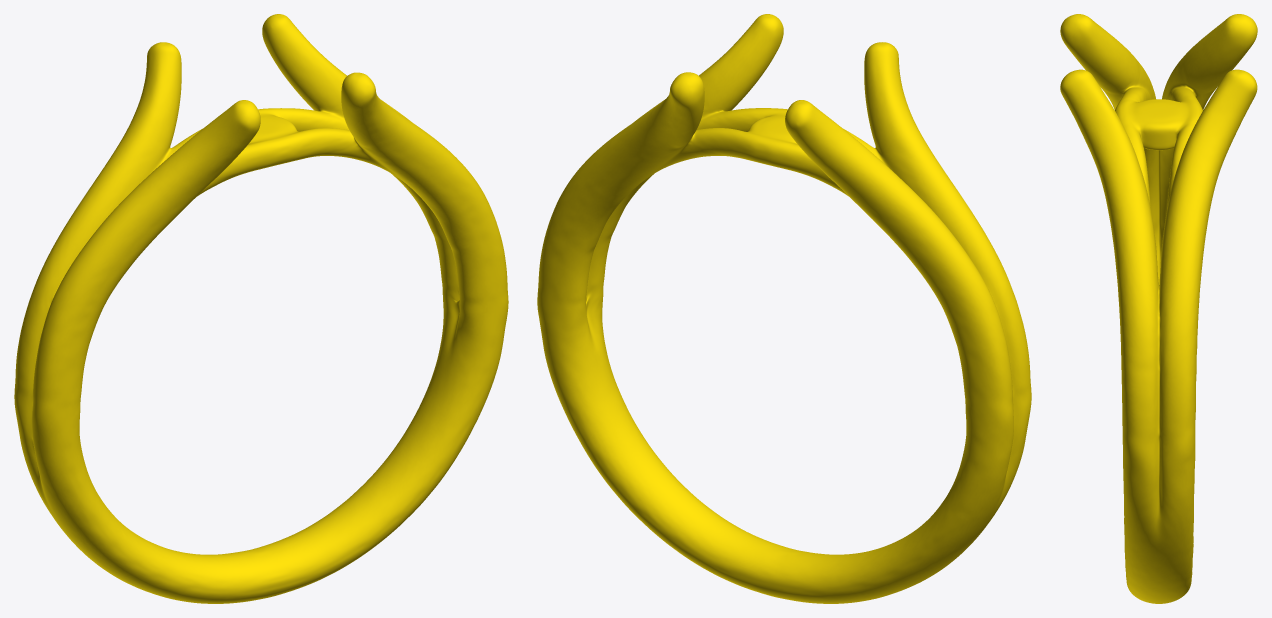
File: Shank_Two row split_Plain Gold_B_No, Hidden Halo_Band.glb
3 renders of one model, left to right at view 1: azimuth 30°, elevation 25°; view 2: azimuth 150°, elevation 25°; view 3: azimuth 270°, elevation 25°, orthographic.
Size of the model in its own units: 0.0213 by 0.023 by 0.00771.
